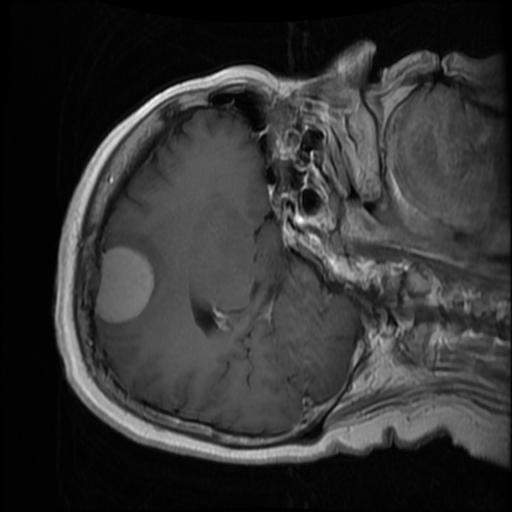meningioma: (94, 248, 154, 323)
